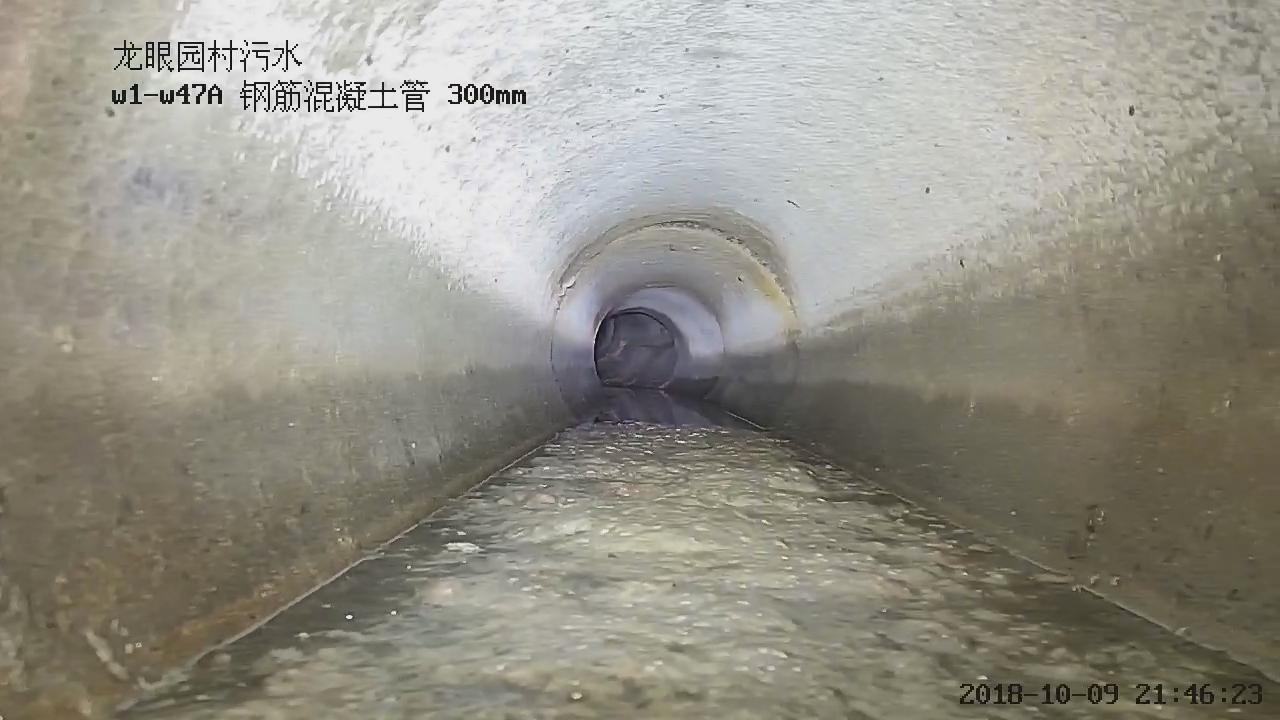CKTJ: (543, 213, 809, 424)
FZ: (122, 419, 1279, 719)
